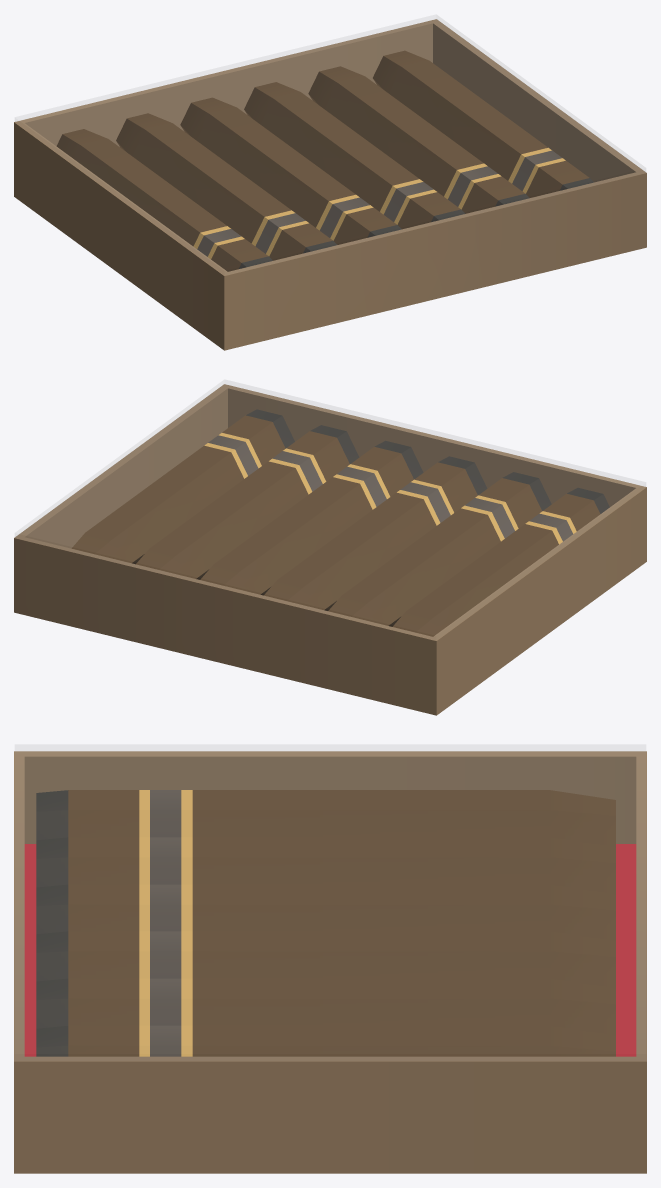
The model's file is cigars.fbx.
3 renders of one model, top to bottom at view 1: azimuth 30°, elevation 25°; view 2: azimuth 150°, elevation 25°; view 3: azimuth 270°, elevation 25°, orthographic. The views are drawn at different scales.
Parts seen in each view (by area): view 1: pCube5, pCube4, pCylinder7, pCylinder5, pCylinder6, pCylinder4, pCylinder8, pCylinder3; view 2: pCube5, pCube4, pCylinder7, pCylinder5, pCylinder4, pCylinder6, pCylinder8, pCylinder3; view 3: pCube5, pCube4, pCylinder8, pCylinder4, pCylinder3, pCylinder7, pCylinder5, pCylinder6.
Boxes of the visible parts, x1=… form: pCube5: x1=15, y1=15, x2=645, y2=274; pCube4: x1=14, y1=19, x2=646, y2=350; pCylinder7: x1=308, y1=66, x2=529, y2=213; pCylinder5: x1=180, y1=97, x2=401, y2=244; pCylinder6: x1=373, y1=50, x2=593, y2=197; pCylinder4: x1=116, y1=113, x2=337, y2=260; pCylinder8: x1=244, y1=82, x2=465, y2=229; pCylinder3: x1=56, y1=129, x2=272, y2=271; pCube5: x1=15, y1=380, x2=645, y2=639; pCube4: x1=14, y1=384, x2=646, y2=715; pCylinder7: x1=136, y1=425, x2=359, y2=579; pCylinder5: x1=264, y1=456, x2=487, y2=610; pCylinder4: x1=328, y1=472, x2=551, y2=626; pCylinder6: x1=71, y1=409, x2=294, y2=564; pCylinder8: x1=200, y1=440, x2=423, y2=595; pCylinder3: x1=392, y1=487, x2=609, y2=636; pCube5: x1=15, y1=745, x2=645, y2=1060; pCube4: x1=14, y1=751, x2=646, y2=1173; pCylinder8: x1=36, y1=931, x2=615, y2=988; pCylinder4: x1=36, y1=837, x2=615, y2=894; pCylinder3: x1=36, y1=790, x2=615, y2=847; pCylinder7: x1=36, y1=978, x2=615, y2=1035; pCylinder5: x1=36, y1=884, x2=615, y2=940; pCylinder6: x1=36, y1=1025, x2=615, y2=1056.
Size of the model in its own units: 30.55 by 5.49 by 26.34.
Materials: 2 (1 with a texture image).
